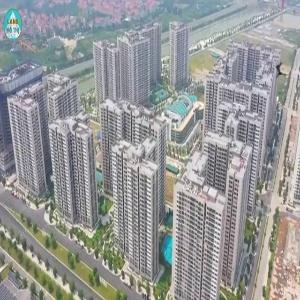drone: (262, 52, 299, 89)
